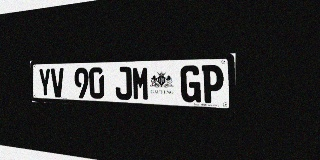0: (89, 67, 104, 99)
9: (74, 67, 89, 98)
G: (180, 65, 201, 103)
J: (115, 67, 132, 100)
M: (132, 66, 150, 101)
P: (202, 65, 224, 104)
V: (51, 68, 65, 97)
Y: (38, 68, 51, 97)
